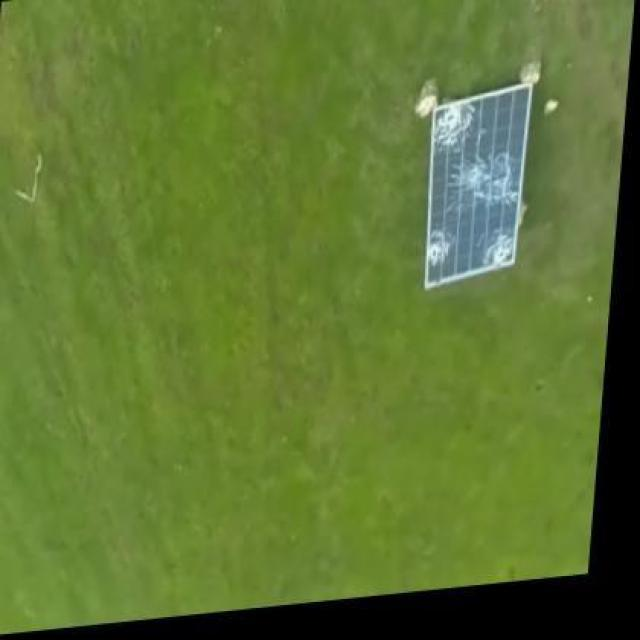cracked: (425, 83, 533, 290)
